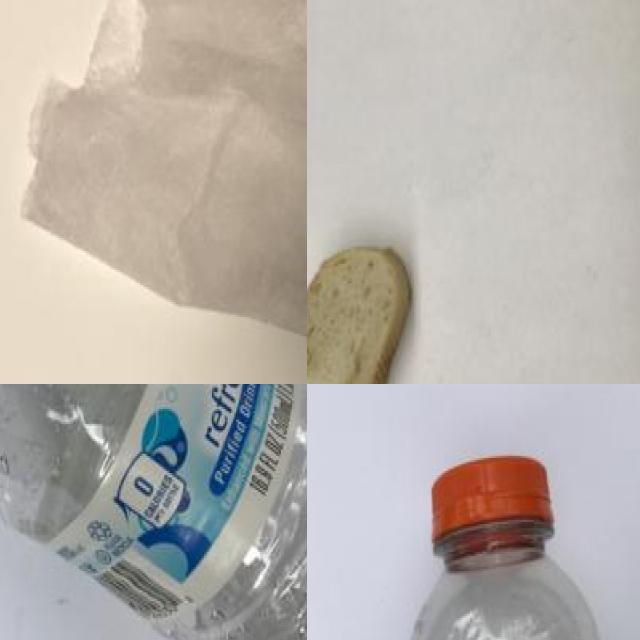compost: (307, 224, 423, 384)
plastic: (0, 384, 307, 640), (390, 441, 640, 640)
trash: (27, 0, 307, 344)
